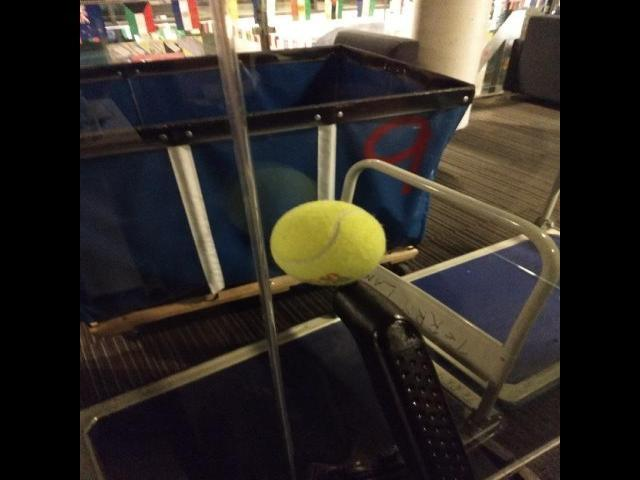tennis-ball: (271, 199, 388, 286)
